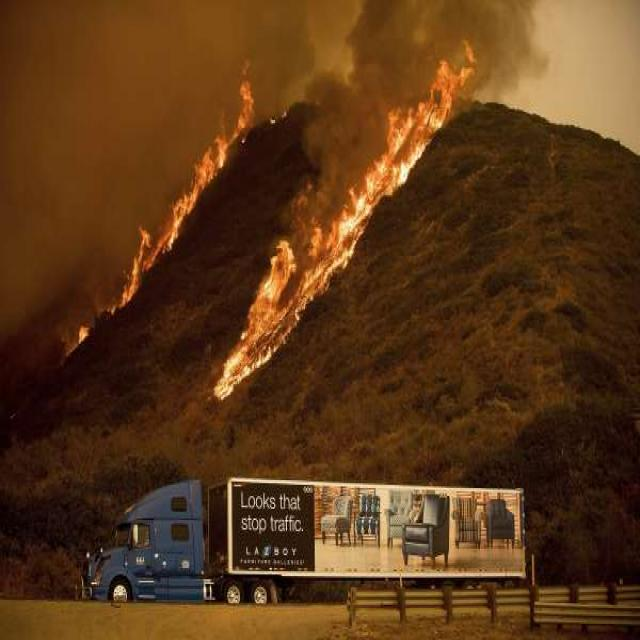Fire: (214, 61, 461, 400), (102, 66, 254, 317)
